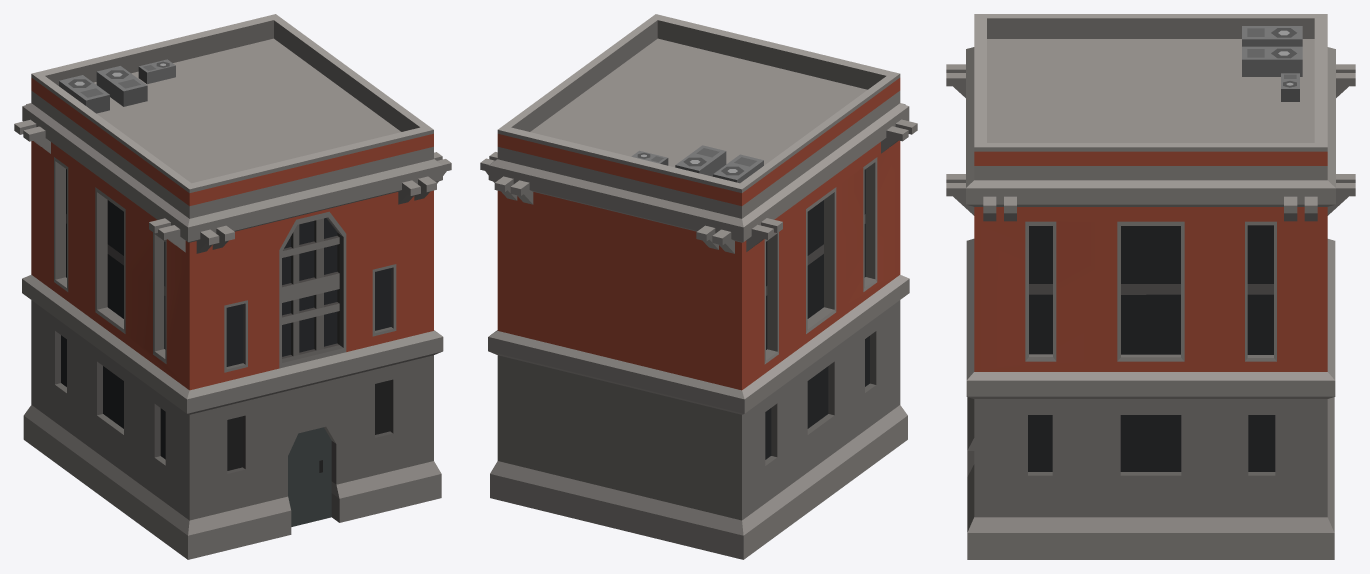
File: SA_Bld_WarehouseOld_01.glb
3 views of the same model, side by side, from view 1: azimuth 30°, elevation 25°; view 2: azimuth 150°, elevation 25°; view 3: azimuth 270°, elevation 25° (orthographic). The views are drawn at different scales.
Parts seen in each view (by area): view 1: SA_Bld_WarehouseOld_01; view 2: SA_Bld_WarehouseOld_01; view 3: SA_Bld_WarehouseOld_01.
Boxes of the visible parts, <box> form: SA_Bld_WarehouseOld_01: <box>14,14,451,559</box>; SA_Bld_WarehouseOld_01: <box>480,14,917,559</box>; SA_Bld_WarehouseOld_01: <box>946,14,1355,559</box>.
Bounding box in the file's own units: 6.16 × 7.51 × 6.79.
1 material, 1 textured.
